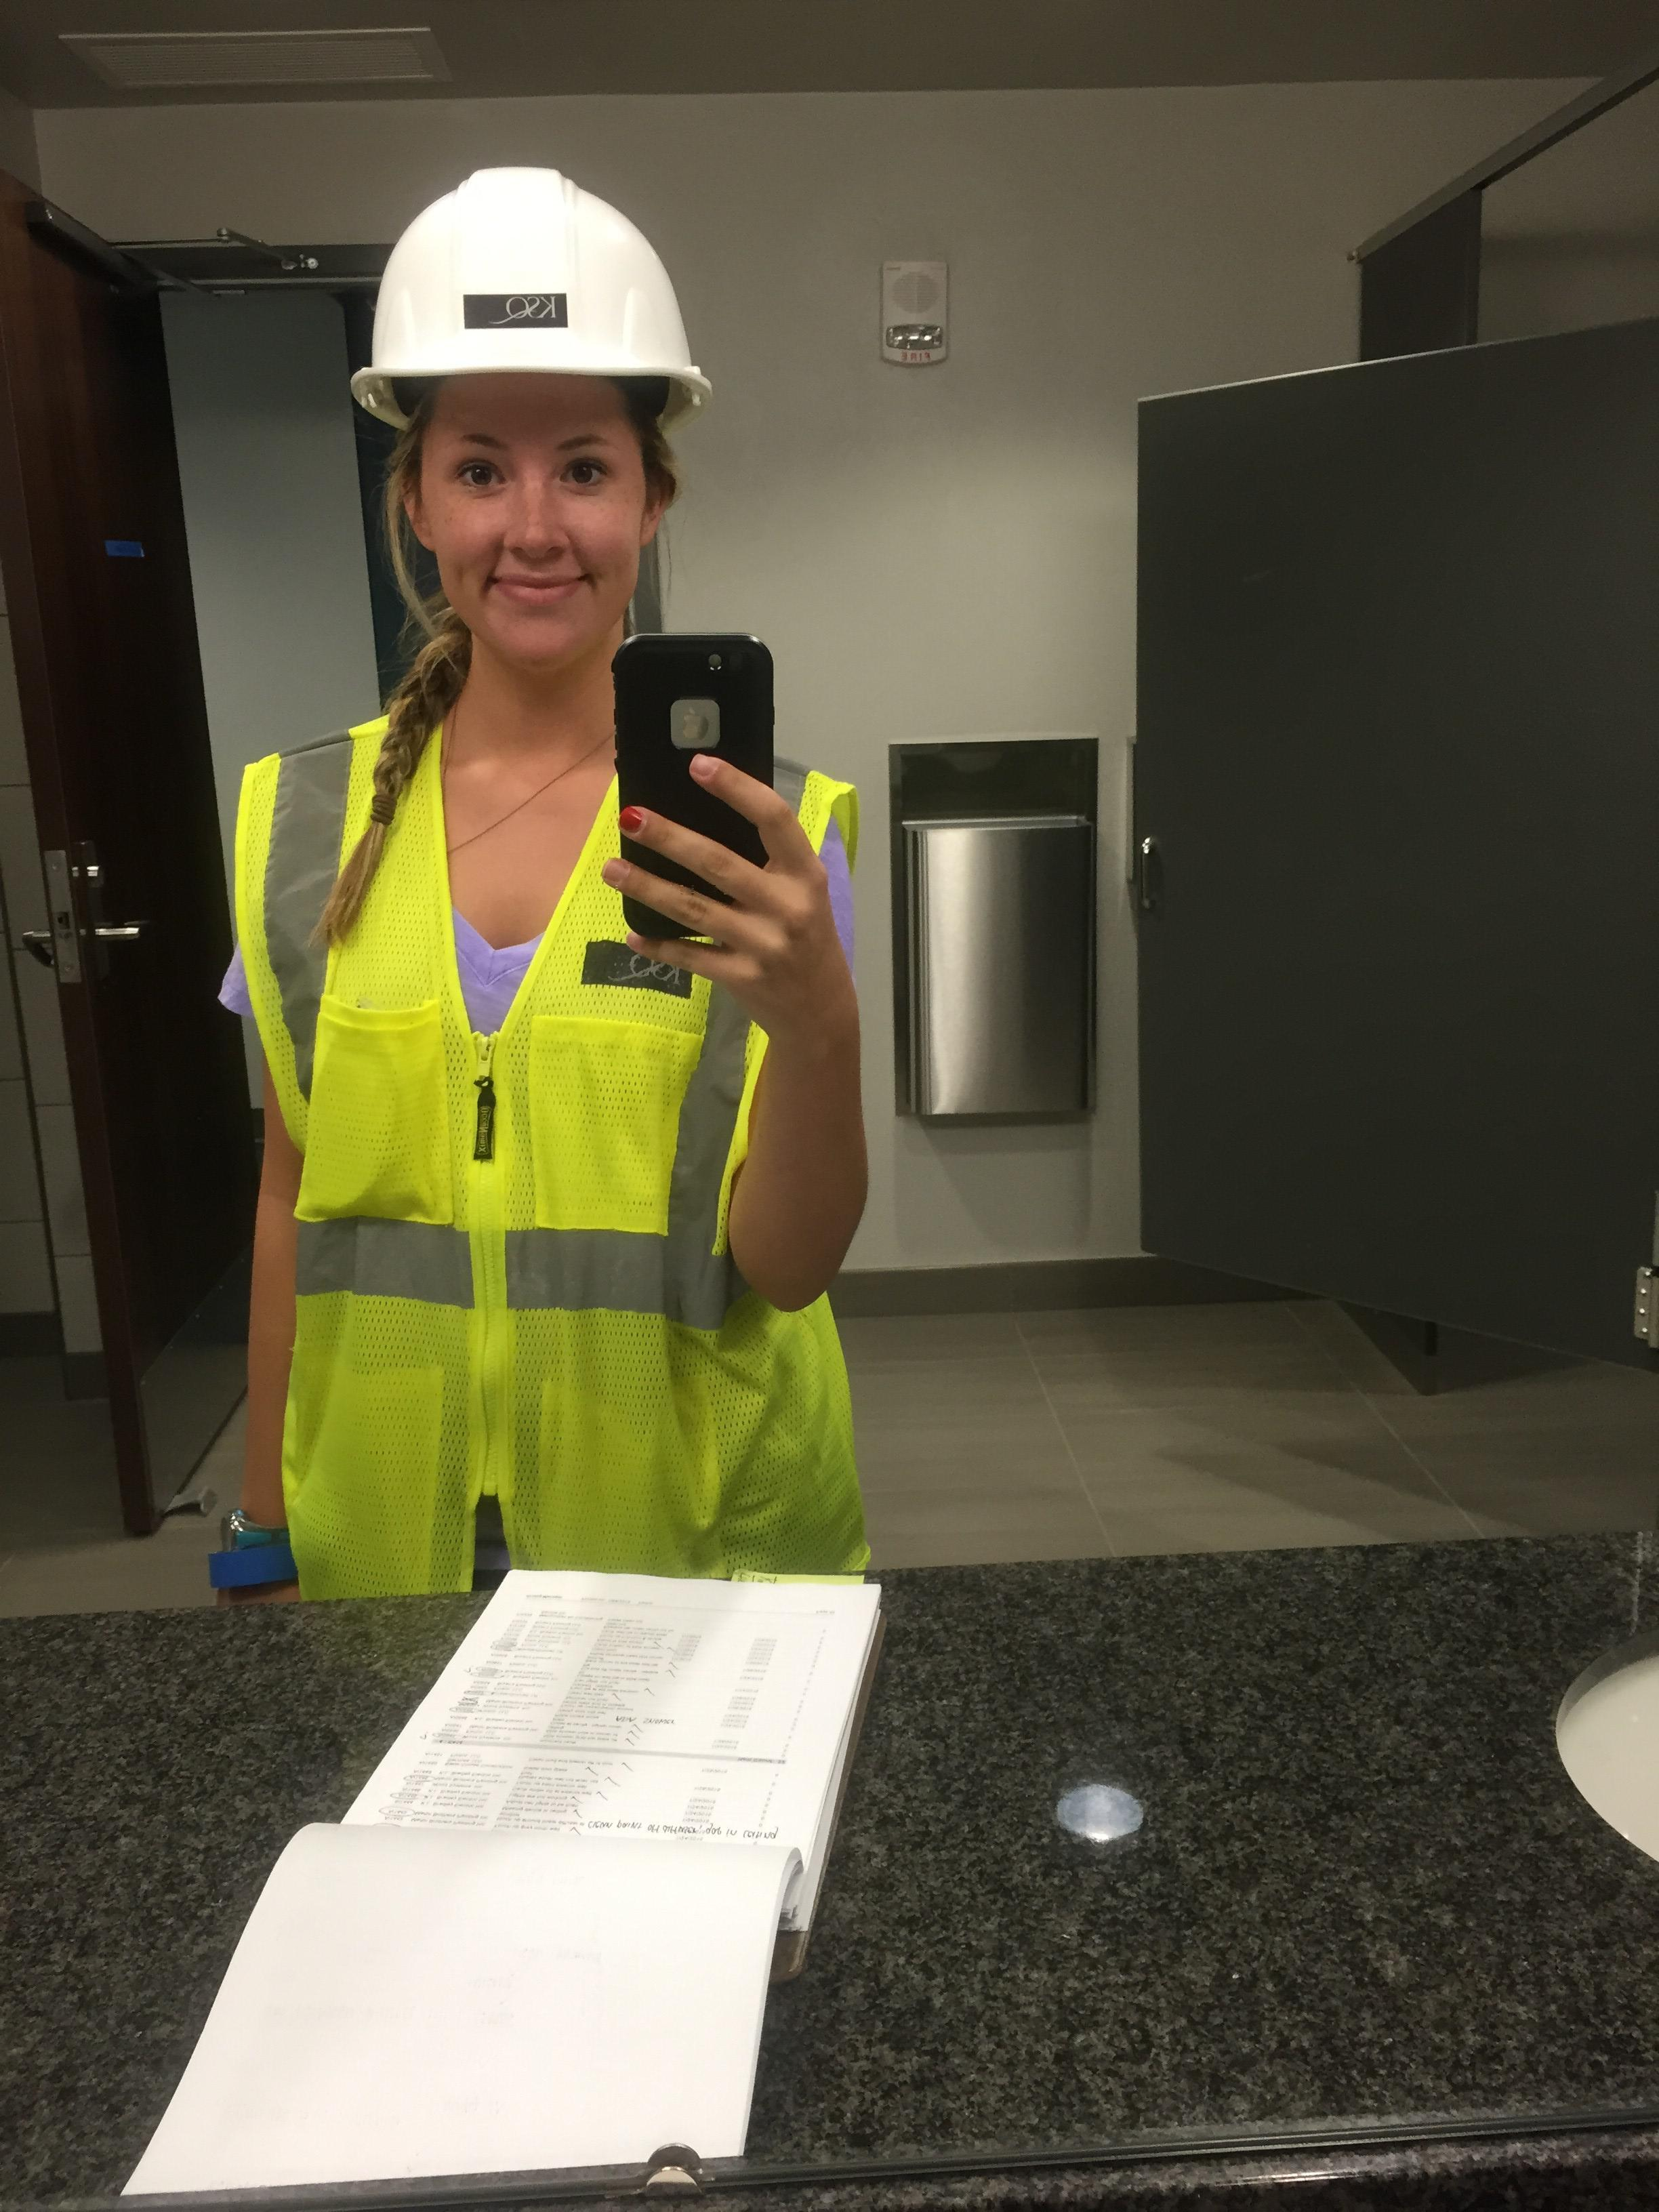helmet: (335, 162, 721, 409)
